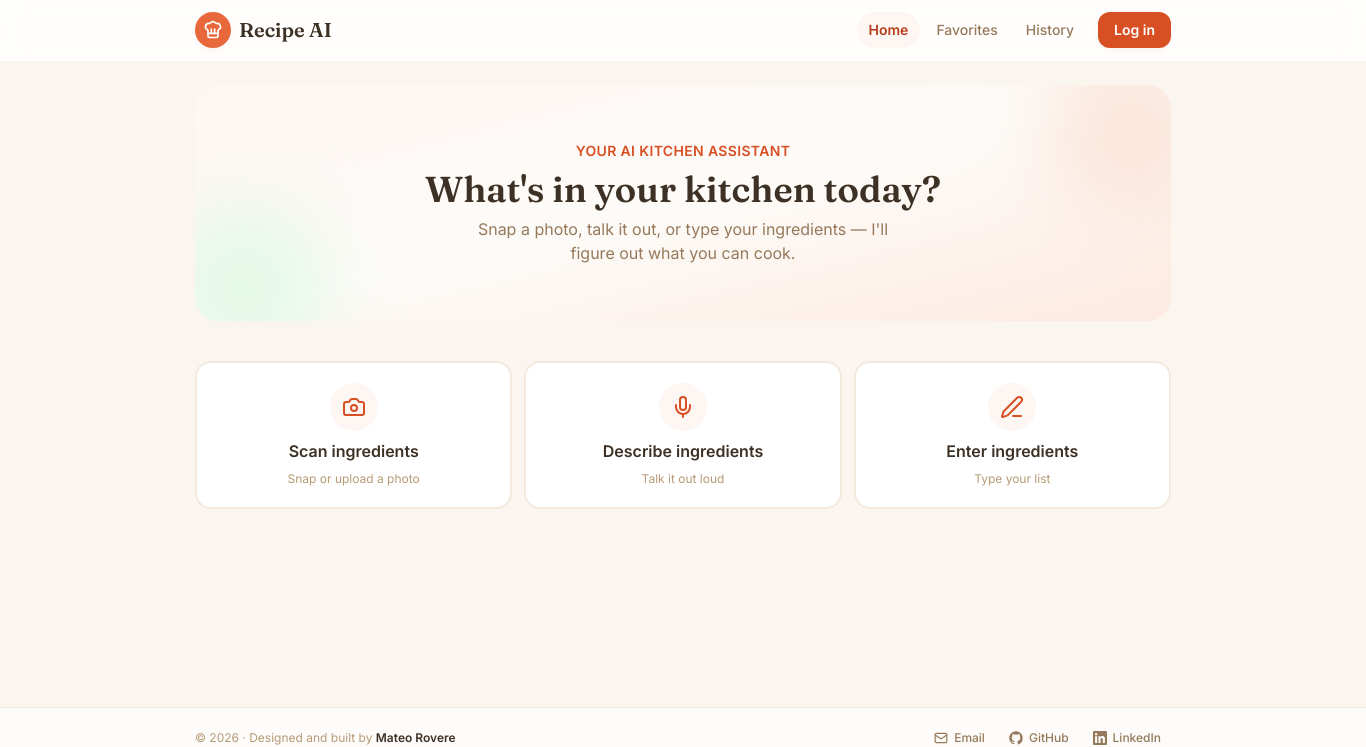
text ingredient -> review -> results flow › shows an error state when ingredient extraction fails
This screenshot has width=1366, height=747.
Click the button "Enter ingredients Type your list" at [1012, 407], box [854,361,1171,509]
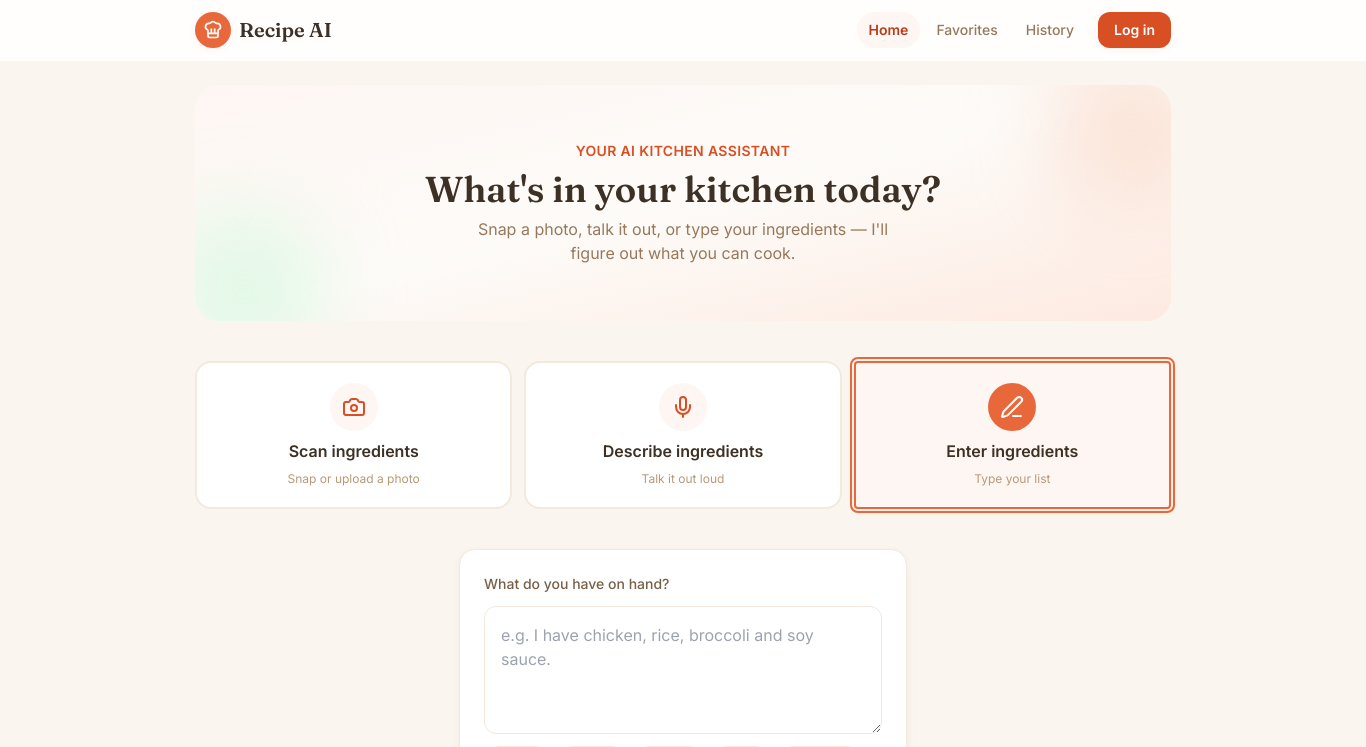
Type "asdf" into the text box labelled "What do you have on hand?" at [683, 670], box [484,606,882,734]
(page scrolled)
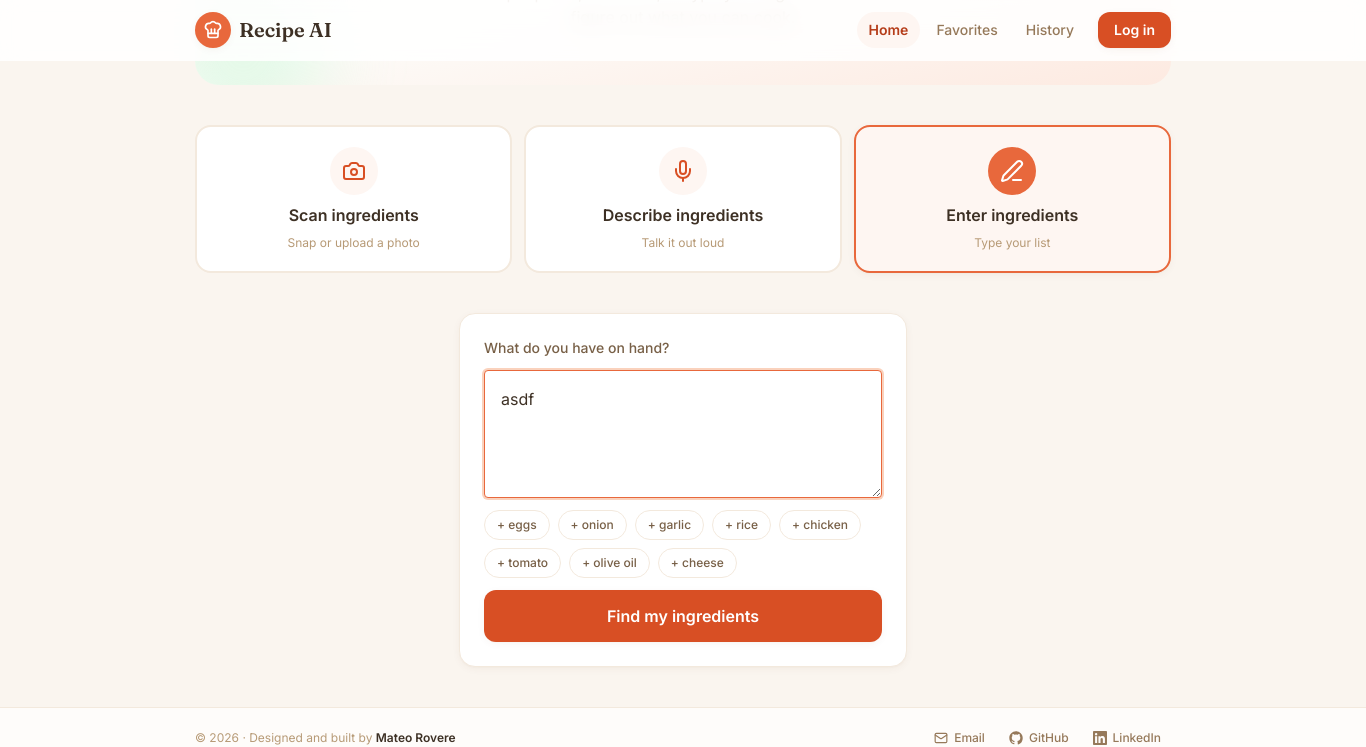
Click the button "Find my ingredients" at [683, 616], box [484,590,882,642]
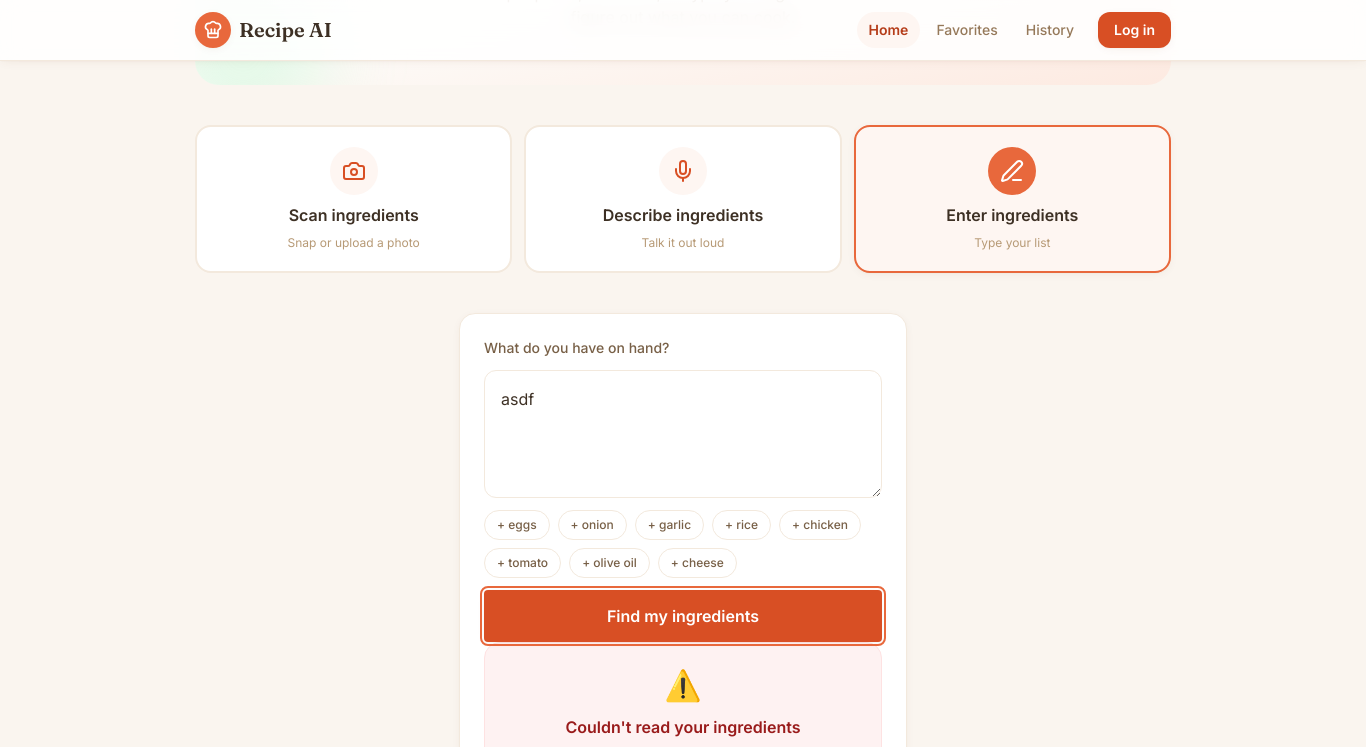
Expected: the text "Couldn't read your ingredients" is shown, [566,715,800,739]
